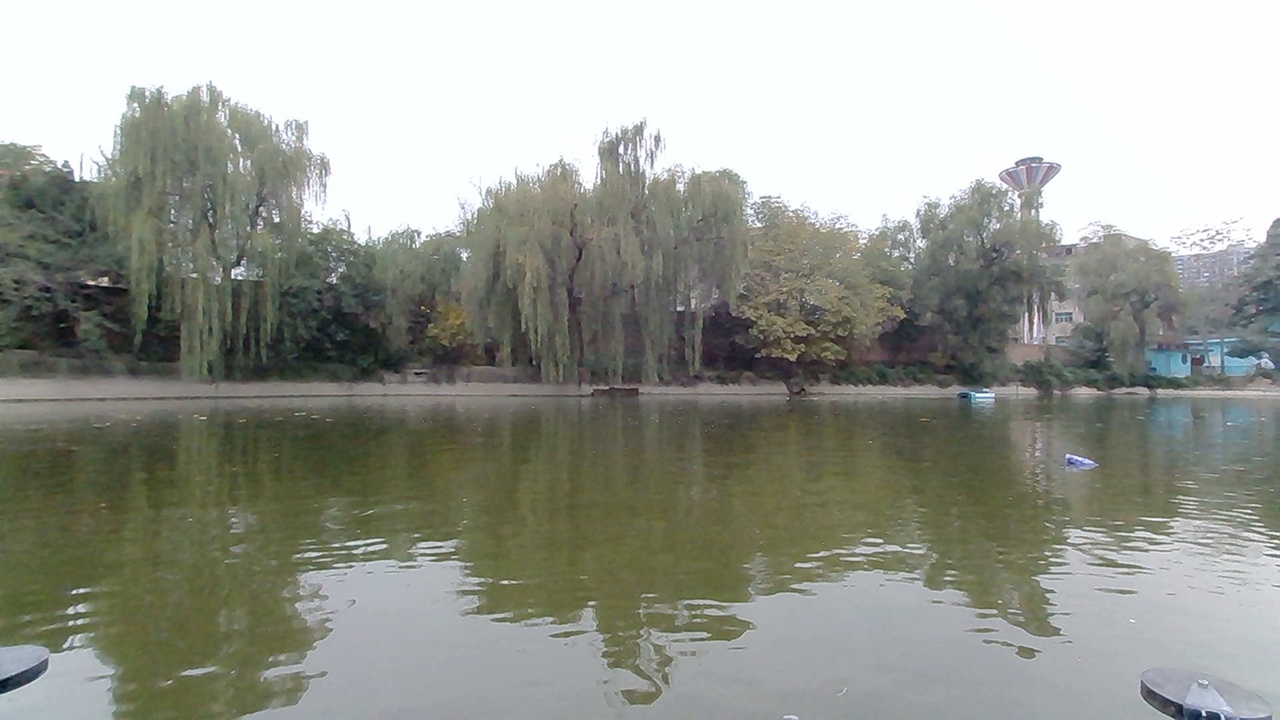bottle: (1053, 447, 1098, 481)
